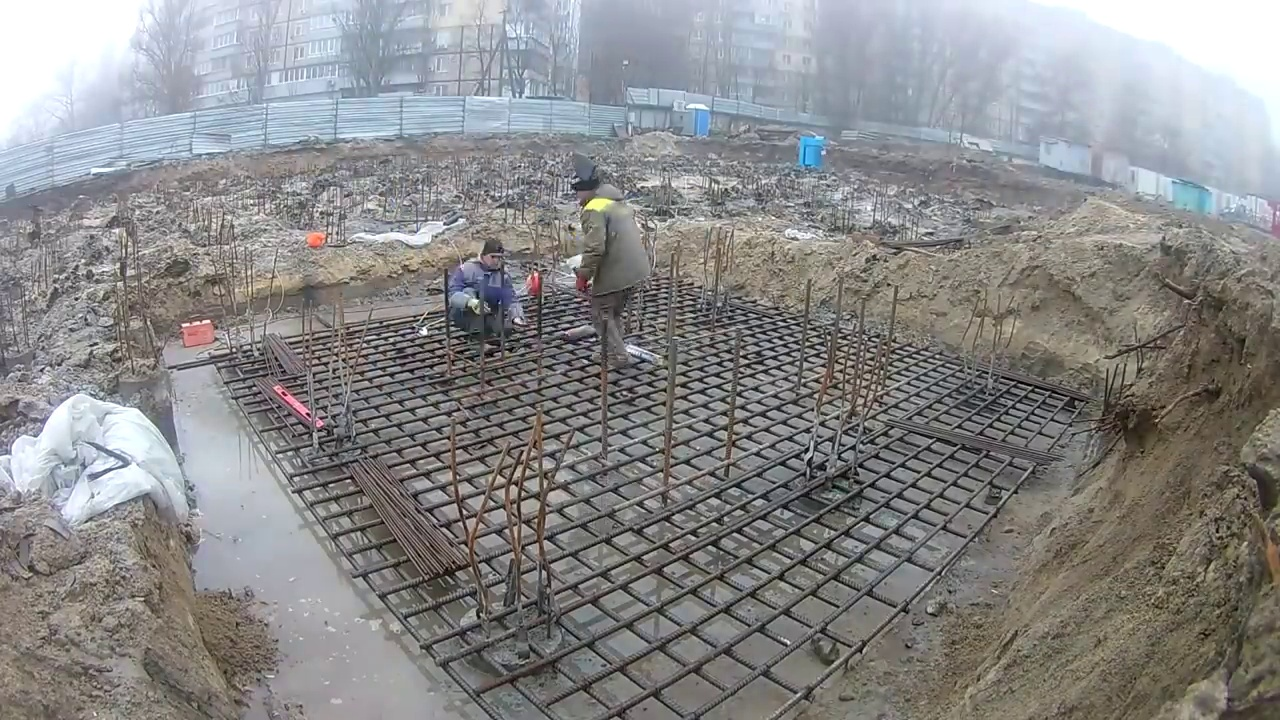helmet: (526, 270, 540, 300), (306, 231, 325, 250)
helmet-off: (569, 159, 611, 205), (480, 244, 505, 272)
person: (565, 158, 645, 370), (449, 245, 526, 340)
